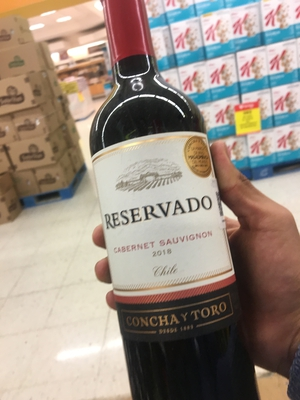reservado cabernet sauvignon: (86, 4, 249, 400)
